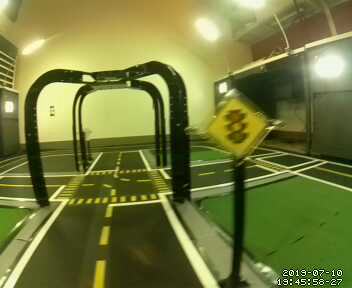Traffic light sign: (206, 94, 269, 158)
